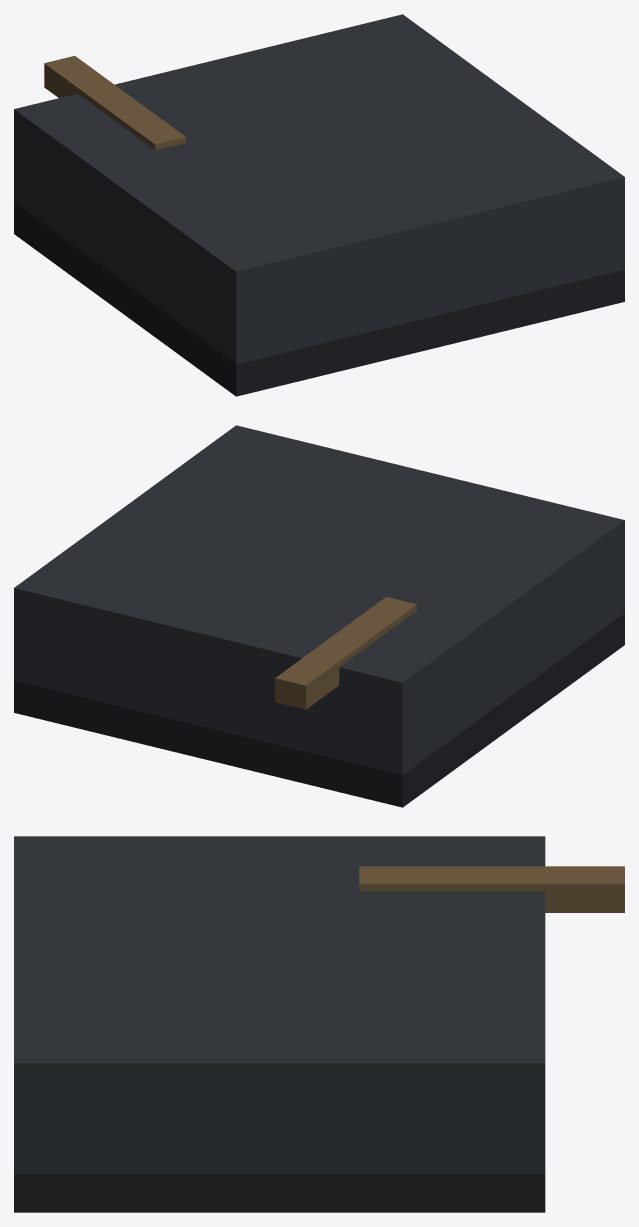
File: inf_v2_runner_foot.fbx
3 views of the same model, one above another, from view 1: azimuth 30°, elevation 25°; view 2: azimuth 150°, elevation 25°; view 3: azimuth 270°, elevation 25° (orthographic). The views are drawn at different scales.
Visible parts, largest first — view 1: inf_v2_runner_foot; view 2: inf_v2_runner_foot; view 3: inf_v2_runner_foot.
Part boxes in pixels (<box>): inf_v2_runner_foot: <box>14,14,624,396</box>; inf_v2_runner_foot: <box>14,425,624,807</box>; inf_v2_runner_foot: <box>14,836,624,1212</box>.
Size of the model in its own units: 101 by 32.5 by 115.
